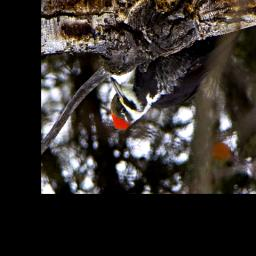Woodpecker: (108, 36, 223, 134)
